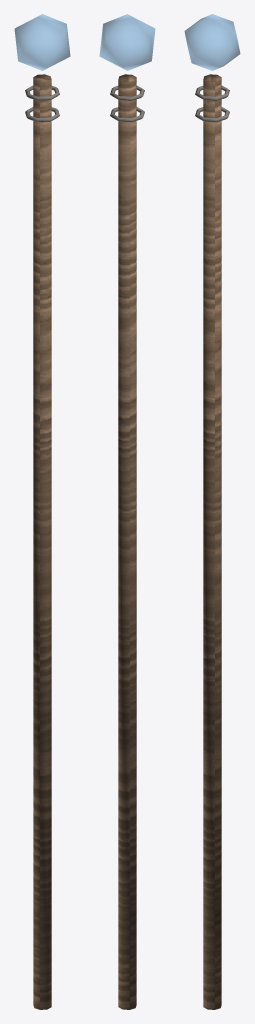
Rendered from crystal_staff.glb.
3 renders of one model, left to right at view 1: azimuth 30°, elevation 25°; view 2: azimuth 150°, elevation 25°; view 3: azimuth 330°, elevation 25°, orthographic.
Parts seen in each view (by area): view 1: crystal_staff; view 2: crystal_staff; view 3: crystal_staff.
Part boxes in pixels (x1,y1,x2,y2): crystal_staff: (14, 14, 70, 1009); crystal_staff: (99, 14, 155, 1009); crystal_staff: (184, 14, 240, 1009).
Size of the model in its own units: 0.0716 by 1.39 by 0.0681.
Materials: 3 (1 with a texture image).
